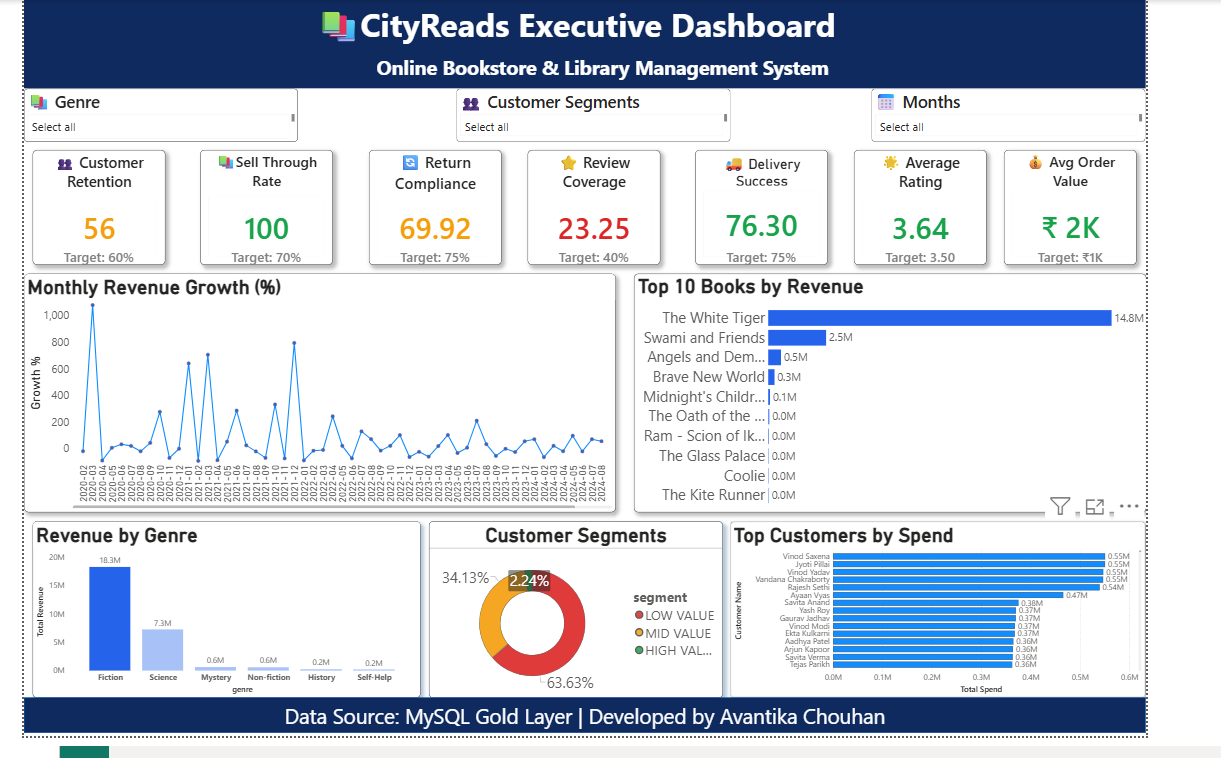

Layout of this report page (visuals, bound fields, positions):
{"tool":"powerbi","page":{"name":"Page 1","canvas":[3050,2000],"ordinal":0},"visuals":[{"type":"shape","box":[0,0,3048,240],"z":0},{"type":"textbox","box":[384,0,2232,144],"z":1000},{"type":"textbox","box":[696,144,1752,96],"z":2000},{"type":"cardVisual","title":"👥 Customer Retention","fields":{"Data":["Sum(cityreads gold_kpi_retention_rate.kpi_value)"]},"box":[24,408,360,312],"z":3000},{"type":"cardVisual","title":"📚Sell Through Rate","fields":{"Data":["Sum(cityreads gold_kpi_sell_through.kpi_value)"]},"box":[480,408,360,312],"z":4000},{"type":"cardVisual","title":"🔄 Return Compliance","fields":{"Data":["Sum(cityreads gold_kpi_return_compliance.kpi_value)"]},"box":[936,408,360,312],"z":5000},{"type":"cardVisual","title":"⭐ Review Coverage","fields":{"Data":["Sum(cityreads gold_kpi_review_coverage.kpi_value)"]},"box":[1368,408,360,312],"z":6000},{"type":"lineChart","title":"Monthly Revenue Growth (%)","fields":{"Category":["cityreads gold_kpi_revenue_growth.month"],"Y":["Sum(cityreads gold_kpi_revenue_growth.kpi_value)"]},"box":[0,744,1608,648],"z":7000},{"type":"clusteredBarChart","title":"Top 10 Books by Revenue","fields":{"Category":["cityreads gold_top_books.title"],"Y":["Sum(cityreads gold_top_books.total_revenue)","select"]},"box":[1656,744,1392,648],"z":8000},{"type":"clusteredColumnChart","title":"Revenue by Genre","fields":{"Category":["cityreads gold_top_books.genre"],"Y":["Sum(cityreads gold_top_books.total_revenue)"]},"box":[22.7,1417.3,1053.8,480],"z":9000},{"type":"donutChart","title":"Customer Segments","fields":{"Category":["cityreads gold_customer_segments.segment"],"Y":["CountNonNull(cityreads gold_customer_segments.customer_id)"]},"box":[1099.2,1417.3,798.1,480],"z":10000},{"type":"cardVisual","title":"🌟 Average Rating","fields":{"Data":["Sum(cityreads gold_kpi_average_rating.kpi_value)"]},"box":[2256,408,360,312],"z":11000},{"type":"cardVisual","title":"🚚 Delivery      Success","fields":{"Data":["Sum(cityreads gold_kpi_delivery_success.kpi_value)"]},"box":[1824,408,360,312],"z":12000},{"type":"cardVisual","title":"💰 Avg Order Value","fields":{"Data":["Sum(cityreads gold_kpi_average_order_value.kpi_value)"]},"box":[2664,408,360,312],"z":13000},{"type":"advancedSlicerVisual","title":"📚 Genre","fields":{"Values":["cityreads gold_genre_performance.genre"]},"box":[0,240,744,144],"z":14000},{"type":"advancedSlicerVisual","title":"👥 Customer Segments","fields":{"Values":["cityreads gold_customer_segments.segment"]},"box":[1176,240,744,144],"z":15000},{"type":"advancedSlicerVisual","title":"📅 Months","fields":{"Values":["cityreads gold_kpi_revenue_growth.month"]},"box":[2304,240,744,144],"z":16000},{"type":"clusteredBarChart","title":"Top Customers by Spend","fields":{"Category":["cityreads gold_top_customers.customer_name"],"Y":["Max(cityreads gold_top_customers.total_spend)"]},"box":[1920,1416,1128,480],"z":17000},{"type":"shape","box":[0,1896,3048,96],"z":18000},{"type":"shape","title":"Target: 60%","box":[24,672,360,48],"z":19000},{"type":"shape","title":"Target: 70%","box":[480,672,360,48],"z":20000},{"type":"shape","title":"Target: 75%","box":[936,672,360,48],"z":21000},{"type":"shape","title":"Target: 40%","box":[1368,672,360,48],"z":22000},{"type":"shape","title":"Target: 75%","box":[1824,672,360,48],"z":23000},{"type":"shape","title":"Target: 3.50","box":[2256,672,360,48],"z":24000},{"type":"shape","title":"Target: ₹1K","box":[2664,672,360,48],"z":25000}]}

Visuals, with their boxes on the page's 3050x2000 design canvas (x1, y1, x2, y2). These are canvas units, not pixel positions in the 1221x758 screenshot, which may show the page scaled, cropped or inside an application window:
shape: left=0, top=0, right=3048, bottom=240
textbox: left=384, top=0, right=2616, bottom=144
textbox: left=696, top=144, right=2448, bottom=240
"👥 Customer Retention" cardVisual: left=24, top=408, right=384, bottom=720
"📚Sell Through Rate" cardVisual: left=480, top=408, right=840, bottom=720
"🔄 Return Compliance" cardVisual: left=936, top=408, right=1296, bottom=720
"⭐ Review Coverage" cardVisual: left=1368, top=408, right=1728, bottom=720
"Monthly Revenue Growth (%)" lineChart: left=0, top=744, right=1608, bottom=1392
"Top 10 Books by Revenue" clusteredBarChart: left=1656, top=744, right=3048, bottom=1392
"Revenue by Genre" clusteredColumnChart: left=23, top=1417, right=1076, bottom=1897
"Customer Segments" donutChart: left=1099, top=1417, right=1897, bottom=1897
"🌟 Average Rating" cardVisual: left=2256, top=408, right=2616, bottom=720
"🚚 Delivery      Success" cardVisual: left=1824, top=408, right=2184, bottom=720
"💰 Avg Order Value" cardVisual: left=2664, top=408, right=3024, bottom=720
"📚 Genre" advancedSlicerVisual: left=0, top=240, right=744, bottom=384
"👥 Customer Segments" advancedSlicerVisual: left=1176, top=240, right=1920, bottom=384
"📅 Months" advancedSlicerVisual: left=2304, top=240, right=3048, bottom=384
"Top Customers by Spend" clusteredBarChart: left=1920, top=1416, right=3048, bottom=1896
shape: left=0, top=1896, right=3048, bottom=1992
"Target: 60%" shape: left=24, top=672, right=384, bottom=720
"Target: 70%" shape: left=480, top=672, right=840, bottom=720
"Target: 75%" shape: left=936, top=672, right=1296, bottom=720
"Target: 40%" shape: left=1368, top=672, right=1728, bottom=720
"Target: 75%" shape: left=1824, top=672, right=2184, bottom=720
"Target: 3.50" shape: left=2256, top=672, right=2616, bottom=720
"Target: ₹1K" shape: left=2664, top=672, right=3024, bottom=720
